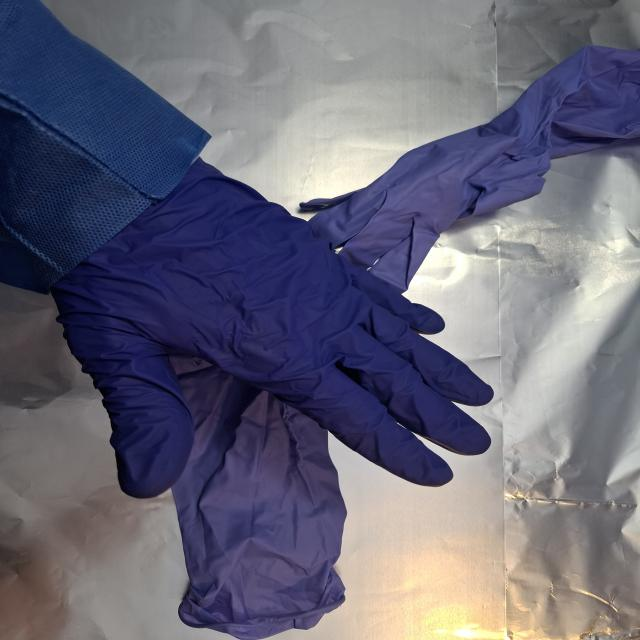glove_on: (48, 157, 498, 502)
